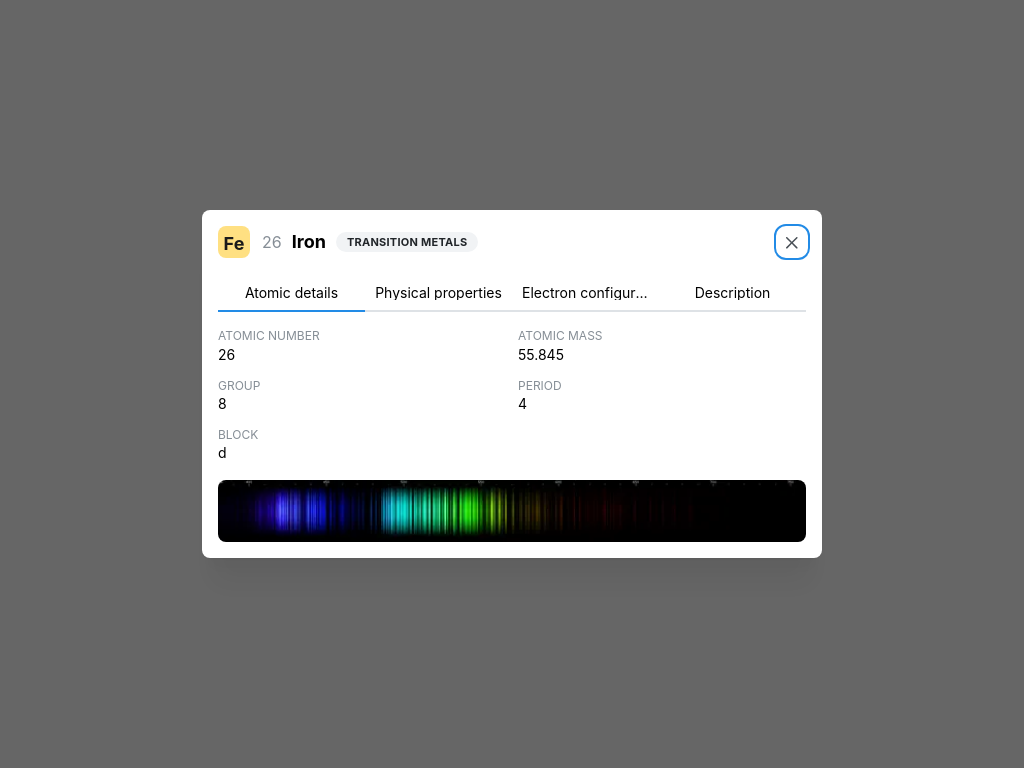
ElementDetail › distributes fields across panels and lists shells innermost→outermost (5.1, 5.2, 5.5, 5.7)
Expected: the text "Atomic number" is shown once, [218,328,320,343]
Expected: the text "Atomic mass" is shown once, [518,328,602,343]
Click the tab "Physical properties" at (438, 293), box [365,274,512,312]
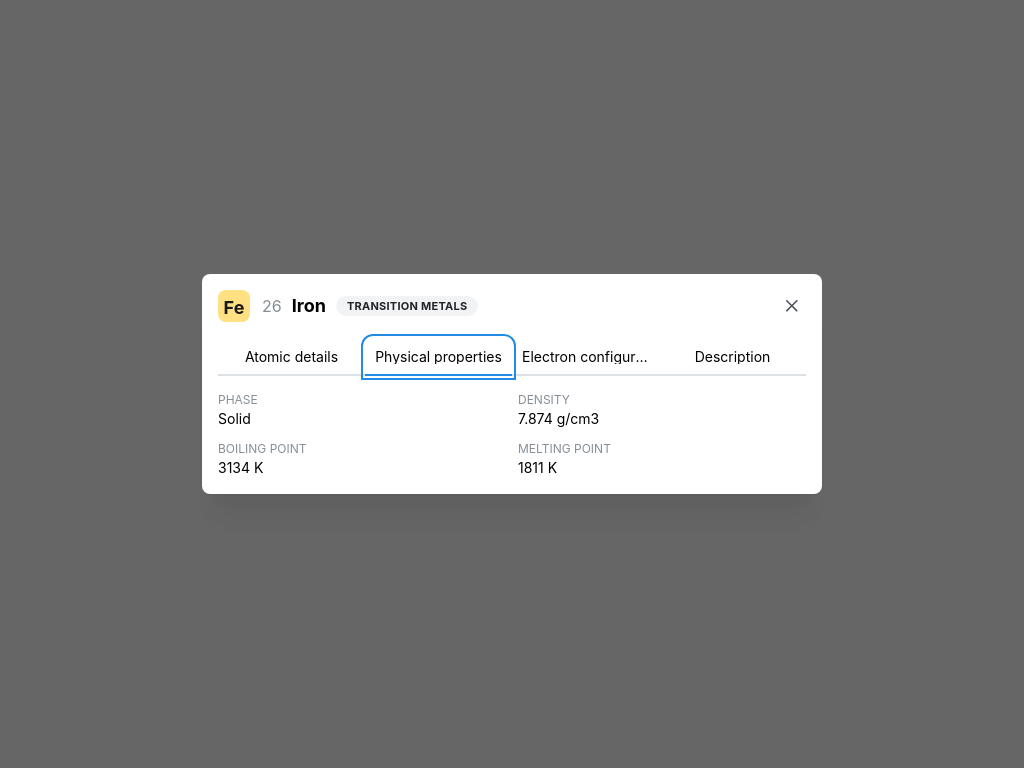
Expected: the text "Phase" is shown, [218,392,258,407]
Expected: the text "Density" is shown, [518,392,570,407]
Expected: the text "7.874 g/cm3" is shown, [518,410,599,427]
# Electron panel: shells joined innermost→outermost (5.7), plus affinity.
Click the tab "Electron configuration" at (586, 357), box [512,338,659,376]
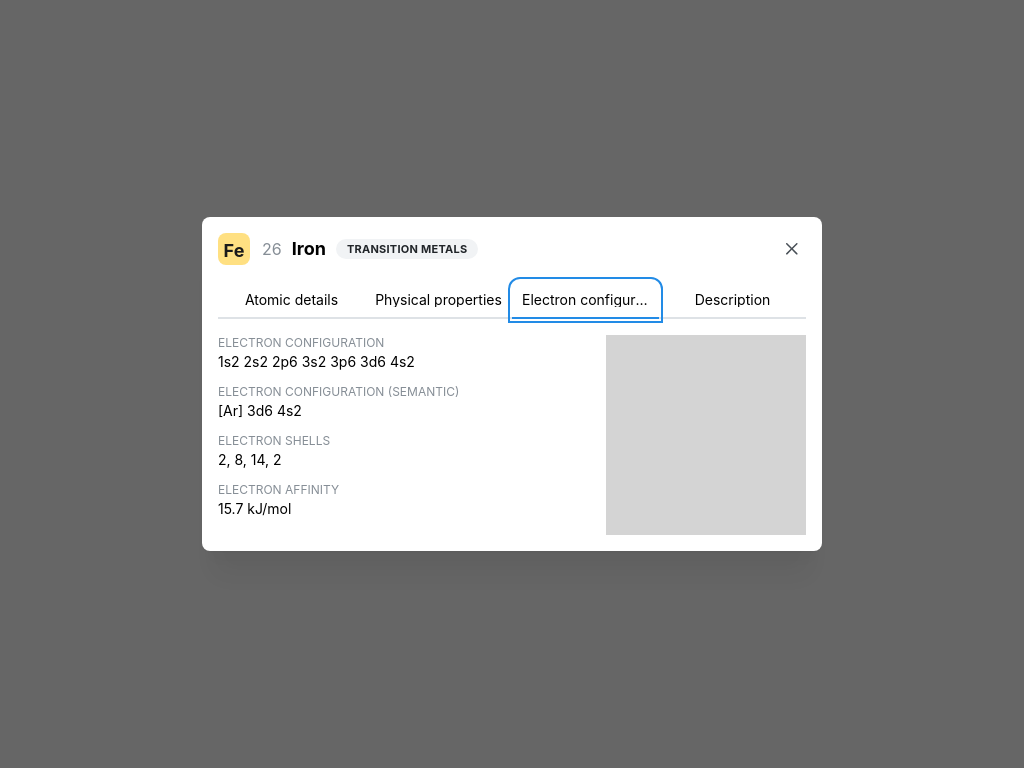
Expected: the text "2, 8, 14, 2" is shown, [218,451,282,468]
Expected: the text "Electron affinity" is shown, [218,482,339,497]
Expected: the text "15.7 kJ/mol" is shown, [218,500,291,517]
